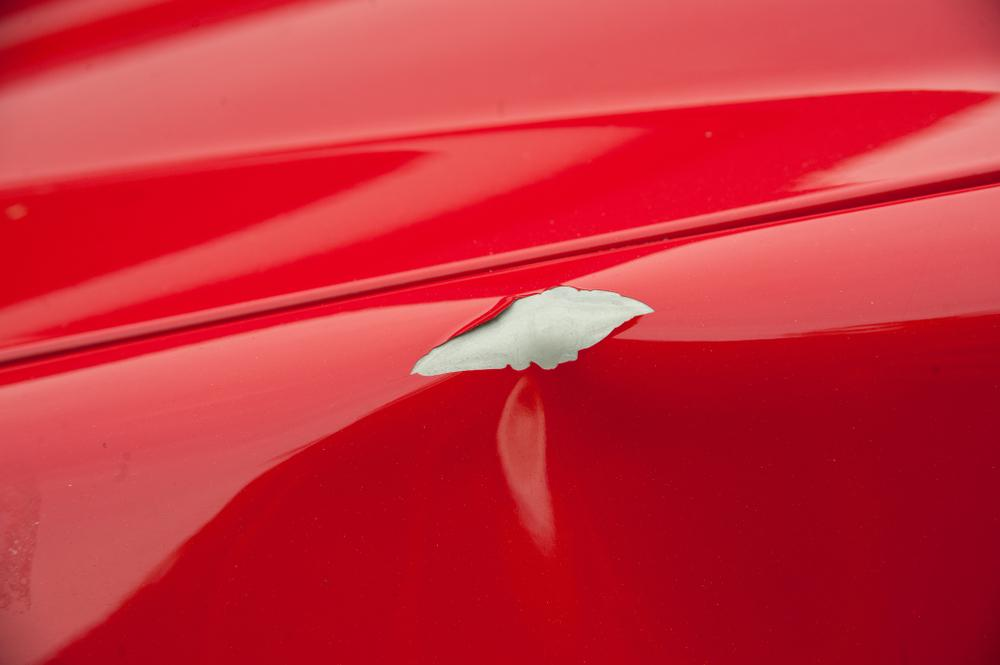dent: (498, 356, 661, 564)
